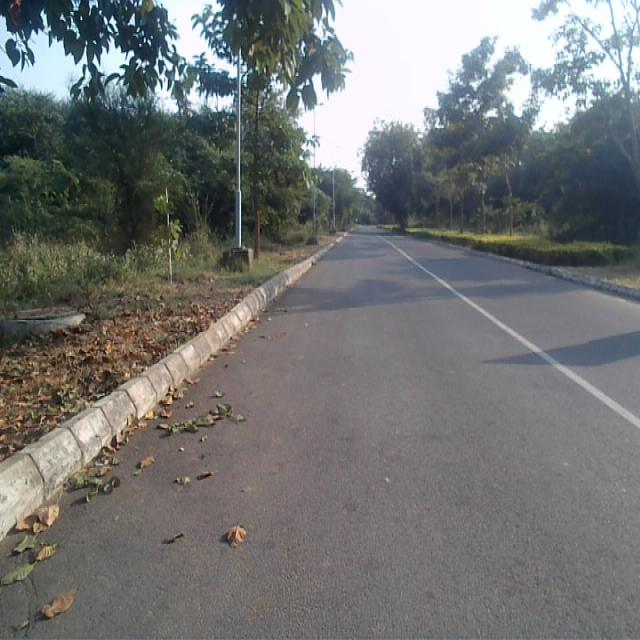lane: (0, 227, 640, 640)
